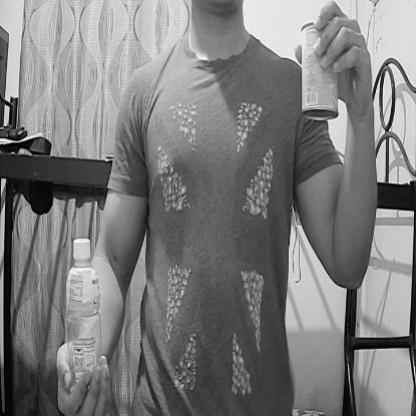Plastic Bottle: (58, 235, 112, 416)
